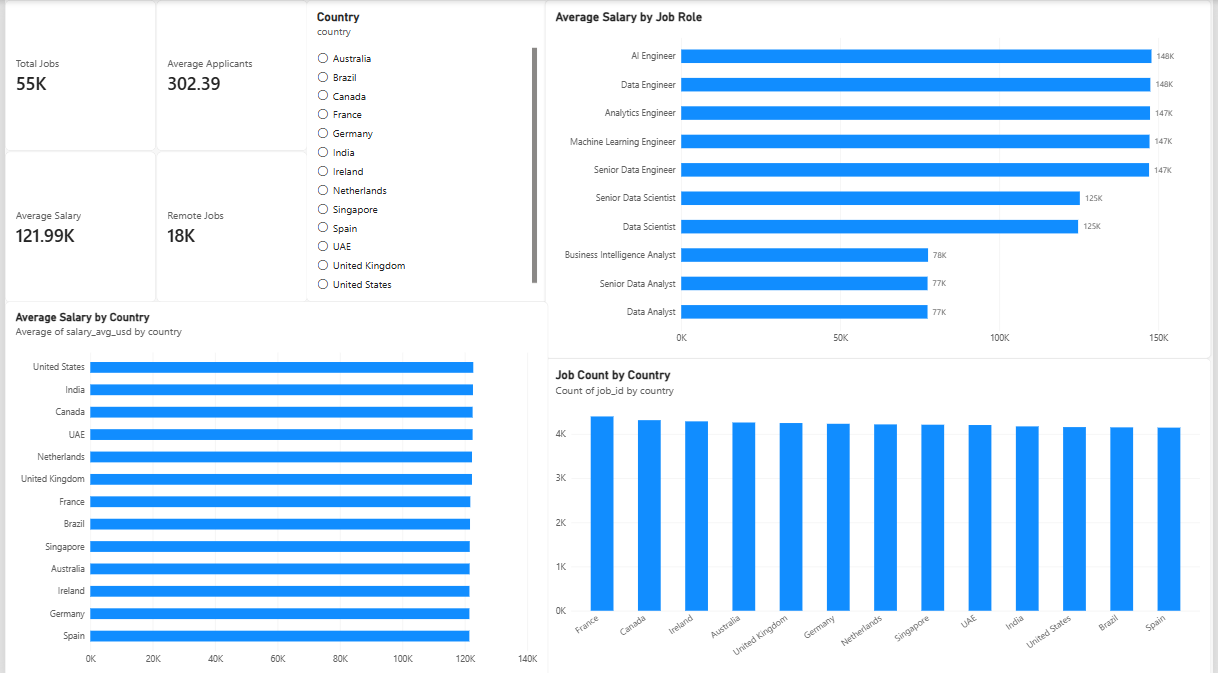

The dashboard page shown, as its layout file describes it:
{"tool":"powerbi","page":{"name":"Page 1","canvas":[1920,1080],"ordinal":0},"visuals":[{"type":"cardVisual","fields":{"Data":["Count(job_postings_analysis.job_id)"]},"box":[0,0,240,240],"z":0},{"type":"cardVisual","fields":{"Data":["Avg(job_postings_analysis.salary_avg_usd)"]},"box":[0,240,240,240],"z":1000},{"type":"cardVisual","fields":{"Data":["Sum(job_postings_analysis.is_remote)"]},"box":[240,240,240,240],"z":2000},{"type":"cardVisual","fields":{"Data":["Avg(job_postings_analysis.applicants_estimate)"]},"box":[240,0,240,240],"z":3000},{"type":"listSlicer","title":"Country","fields":{"Values":["job_postings_analysis.country"]},"box":[480,0,384,480],"z":4000},{"type":"clusteredBarChart","title":"Average Salary by Job Role","fields":{"Category":["job_postings_analysis.job_title"],"Y":["Avg(job_postings_analysis.salary_avg_usd)"]},"box":[858.9,0,1059.3,570.2],"z":5000},{"type":"clusteredColumnChart","title":"Job Count by Country","fields":{"Category":["job_postings_analysis.country"],"Y":["CountNonNull(job_postings_analysis.job_id)"]},"box":[858.9,570.2,1059.3,510.6],"z":6000},{"type":"clusteredBarChart","title":"Average Salary by Country","fields":{"Category":["job_postings_analysis.country"],"Y":["Avg(job_postings_analysis.salary_avg_usd)"]},"box":[0,480,864,600],"z":7000}]}

Visuals, with their boxes in screenshot pixels (x1, y1, x2, y2), scaled from the page's 1920x1080 canvas onto the 1218x673 screenshot:
cardVisual - Count(job_postings_analysis.job_id): [0, 0, 152, 150]
cardVisual - Avg(job_postings_analysis.salary_avg_usd): [0, 150, 152, 299]
cardVisual - Sum(job_postings_analysis.is_remote): [152, 150, 304, 299]
cardVisual - Avg(job_postings_analysis.applicants_estimate): [152, 0, 304, 150]
"Country" listSlicer: [304, 0, 548, 299]
"Average Salary by Job Role" clusteredBarChart: [545, 0, 1217, 355]
"Job Count by Country" clusteredColumnChart: [545, 355, 1217, 672]
"Average Salary by Country" clusteredBarChart: [0, 299, 548, 672]
